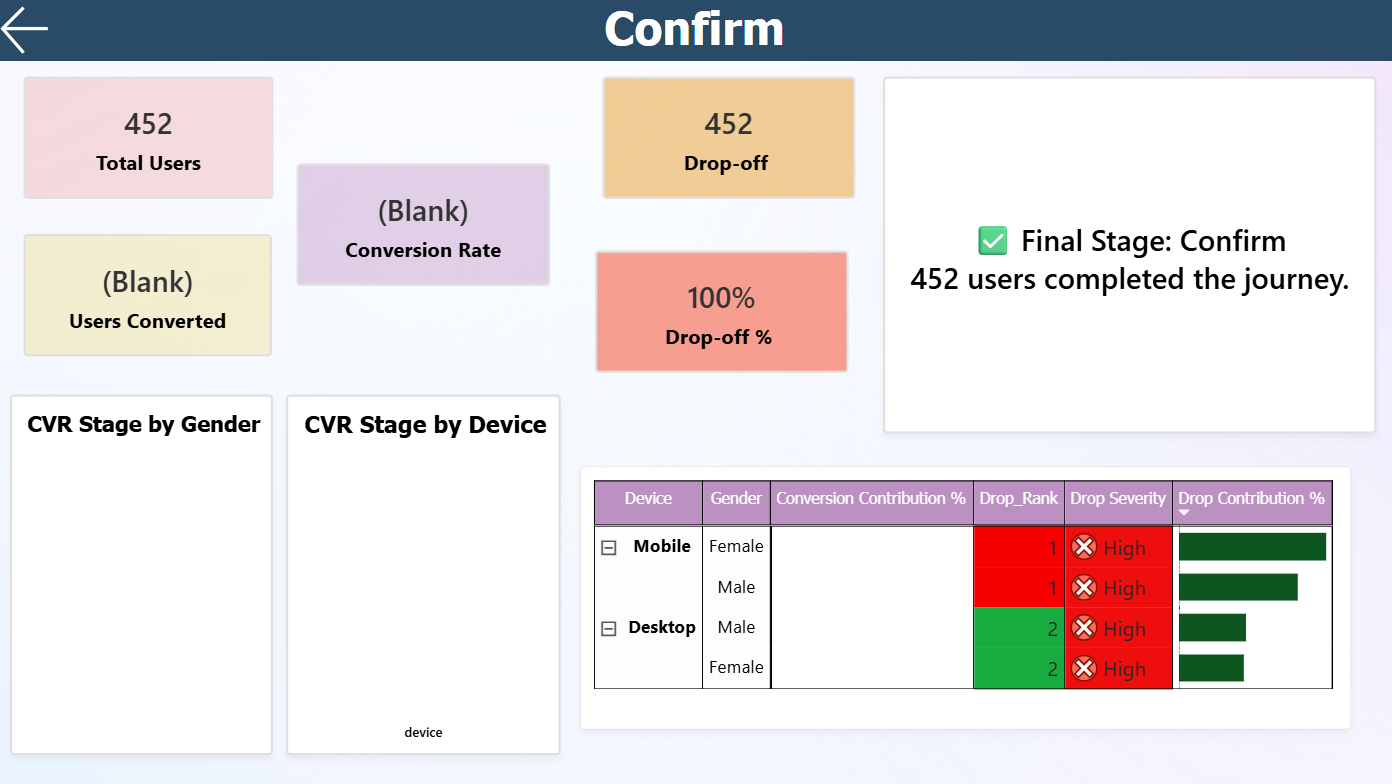

The page's visual inventory and layout, read from the dashboard file:
{"tool":"powerbi","page":{"name":"Stage Deep Dive","canvas":[1280,720],"ordinal":3},"visuals":[{"type":"textbox","box":[0,0,1280,55.4],"z":0},{"type":"card","title":"TOTAL USERS","fields":{"Values":["Measure_Table.Total Users"]},"box":[25.8,69.7,228.7,112.1],"z":1000},{"type":"card","title":"TOTAL USERS","fields":{"Values":["Measure_Table.Users_Converted"]},"box":[25.8,213.6,227.2,112.1],"z":2000},{"type":"card","title":"TOTAL USERS","fields":{"Values":["Measure_Table.Drop-off Stage"]},"box":[555.9,69.7,231,112.1],"z":3000},{"type":"card","title":"TOTAL USERS","fields":{"Values":["Measure_Table.Drop-off % Stage"]},"box":[548.4,228.7,231.8,112.1],"z":4000},{"type":"clusteredColumnChart","title":"CVR Stage by Device","fields":{"Category":["funnel_data.device"],"Y":["Measure_Table.CVR Stage"]},"box":[266.6,360.5,251.5,330.2],"z":5000},{"type":"clusteredColumnChart","fields":{"Category":["funnel_data.sex"],"Y":["Measure_Table.CVR Stage"]},"box":[13.6,360.5,240.9,330.2],"z":6000},{"type":"actionButton","box":[0,0,61.6,55.3],"z":7000},{"type":"card","title":"TOTAL USERS","fields":{"Values":["Measure_Table.CVR Stage"]},"box":[275.7,150,231.8,112.1],"z":8000},{"type":"pivotTable","fields":{"Values":["Measure_Table.Conversion Contribution %","Measure_Table.Drop_Rank","Measure_Table.Drop Severity","Measure_Table.Drop Contribution %"],"Rows":["funnel_data.device","funnel_data.sex"]},"box":[535,427.2,705.6,240.5],"z":9000},{"type":"card","fields":{"Values":["Measure_Table.Insight Text Stage"]},"box":[812.4,70,451.5,326.6],"z":10000}]}

Visuals, with their boxes in screenshot pixels (x1, y1, x2, y2), scaled from the page's 1280x720 canvas onto the 1392x784 screenshot:
textbox: (0,0,1391,60)
"TOTAL USERS" card: (28,76,277,198)
"TOTAL USERS" card: (28,233,275,355)
"TOTAL USERS" card: (605,76,856,198)
"TOTAL USERS" card: (596,249,848,371)
"CVR Stage by Device" clusteredColumnChart: (290,393,563,752)
clusteredColumnChart - funnel_data.sex x Measure_Table.CVR Stage: (15,393,277,752)
actionButton: (0,0,67,60)
"TOTAL USERS" card: (300,163,552,285)
pivotTable - Measure_Table.Conversion Contribution % x Measure_Table.Drop_Rank: (582,465,1349,727)
card - Measure_Table.Insight Text Stage: (883,76,1374,432)
